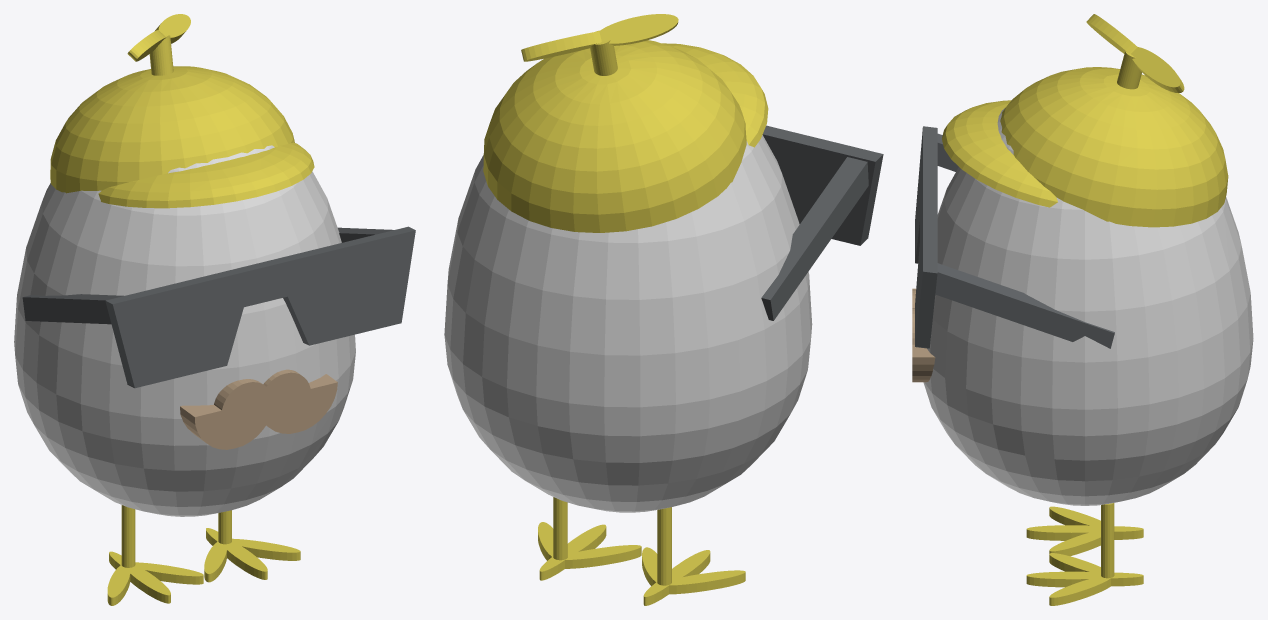
The model's file is egg 2fbx.fbx.
The picture shows the model from 3 angles, left to right: view 1: azimuth 30°, elevation 25°; view 2: azimuth 150°, elevation 25°; view 3: azimuth 270°, elevation 25°; orthographic projection. The views are drawn at different scales.
Parts seen in each view (by area): view 1: Mesh_Mesh_head_geo.001_lambert2SG.001; view 2: Mesh_Mesh_head_geo.001_lambert2SG.001; view 3: Mesh_Mesh_head_geo.001_lambert2SG.001.
Part boxes in pixels (bbox=[...]): Mesh_Mesh_head_geo.001_lambert2SG.001: bbox=[14, 14, 415, 605]; Mesh_Mesh_head_geo.001_lambert2SG.001: bbox=[444, 14, 883, 605]; Mesh_Mesh_head_geo.001_lambert2SG.001: bbox=[912, 14, 1253, 605].
Bounding box in the file's own units: 4700 × 7886 × 4657.
